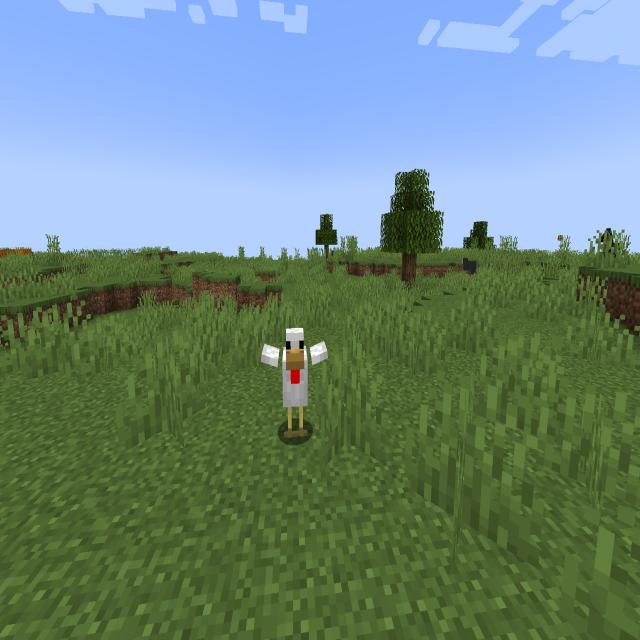chicken: (258, 319, 336, 452)
